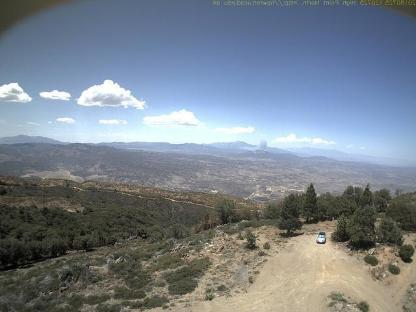smoke: (241, 135, 279, 153)
